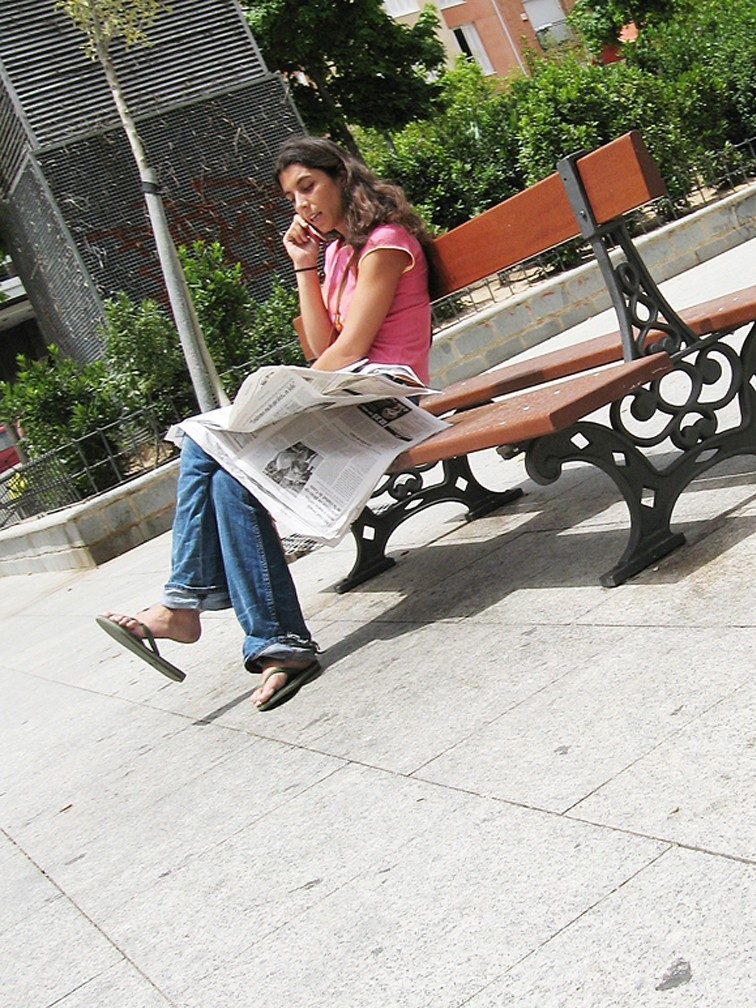face_no_mask: (272, 135, 358, 234)
